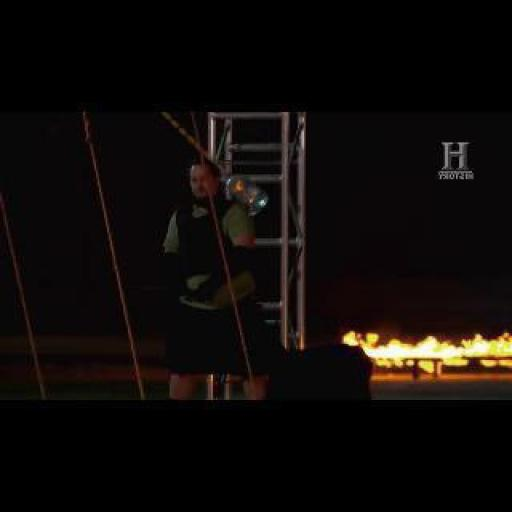smoke: (341, 328, 510, 365)
